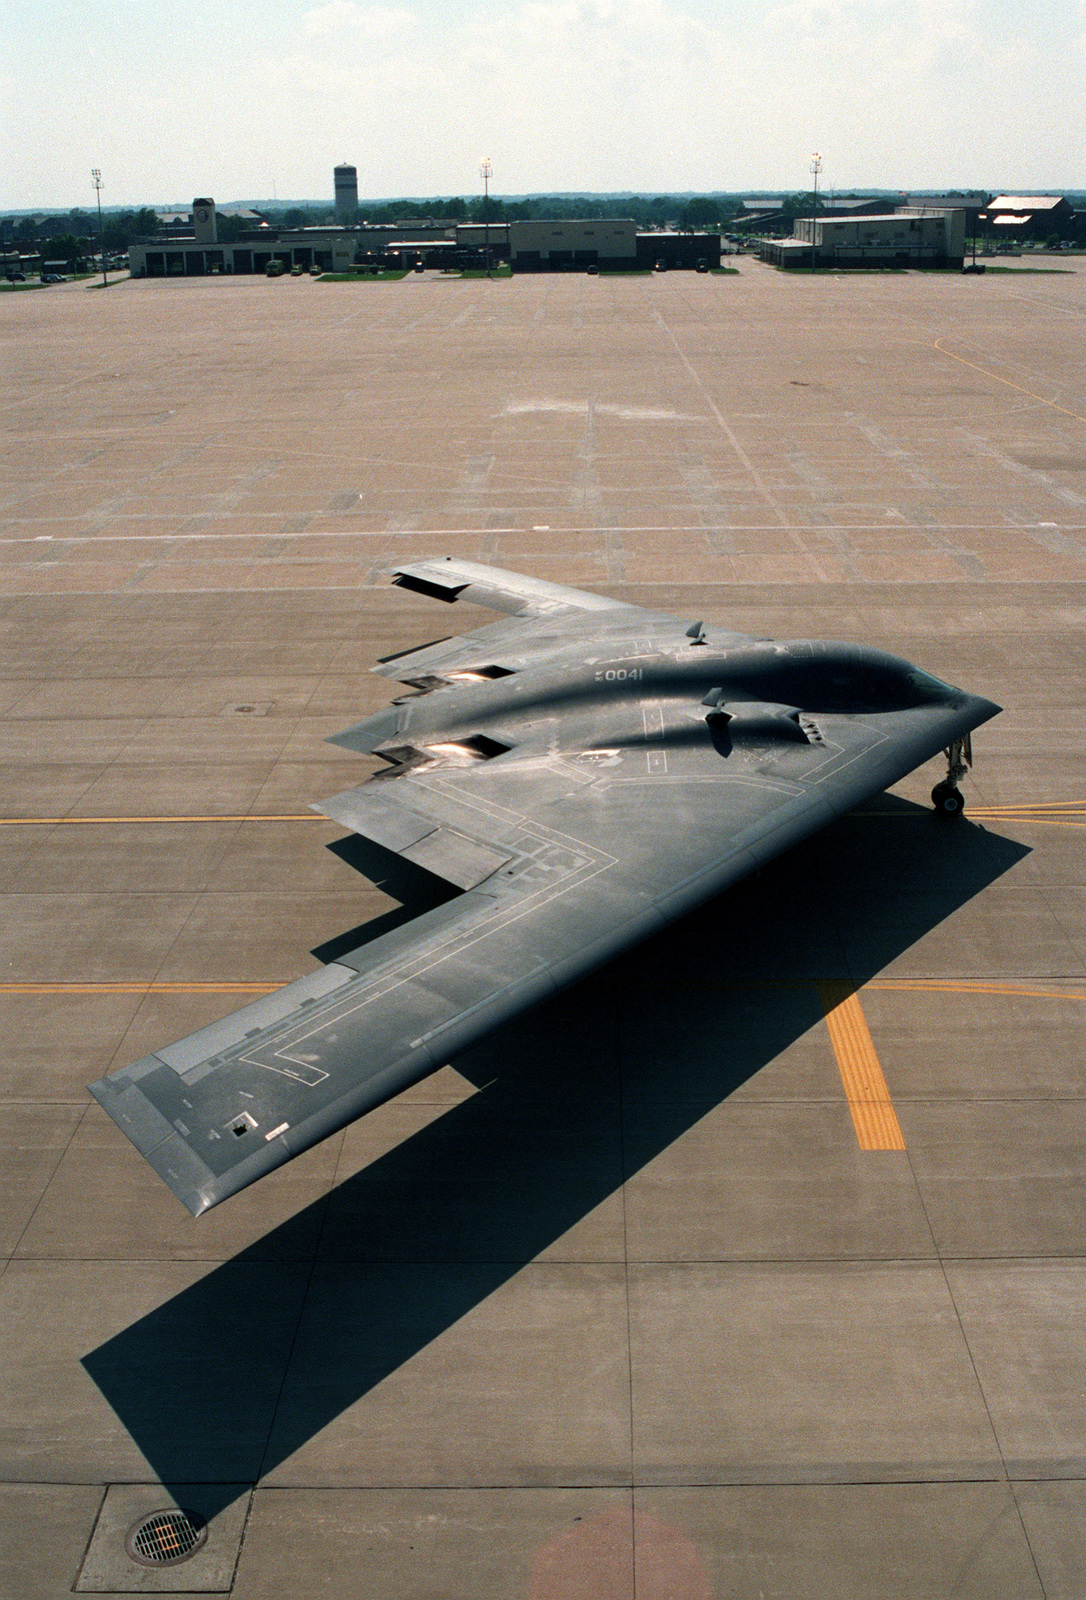B2: (84, 556, 1004, 1218)
